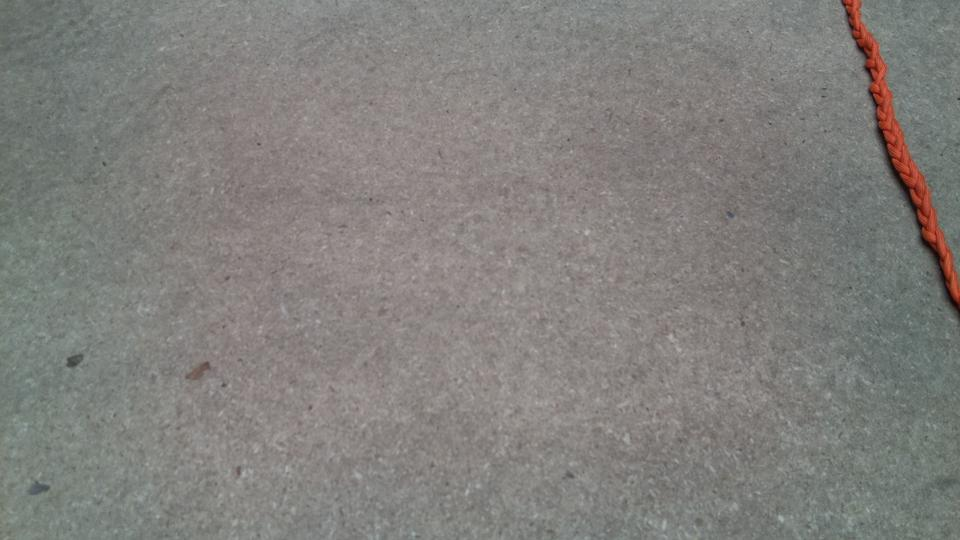rope: (836, 1, 960, 310)
